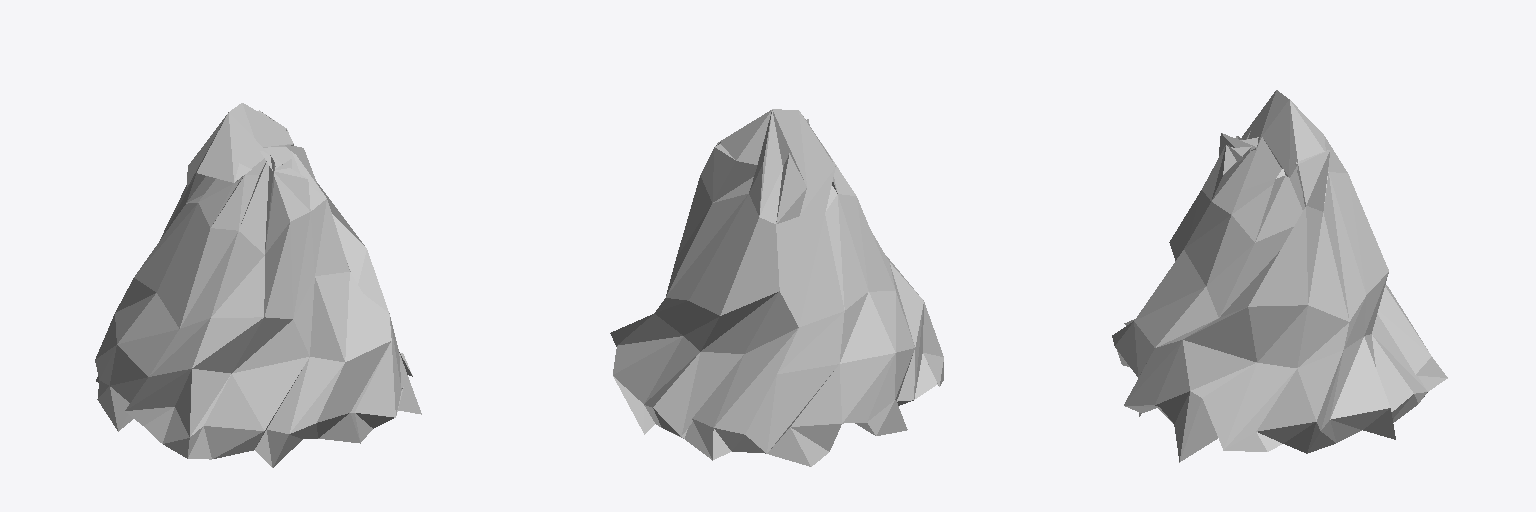
File: chocolate sauced.obj
3 renders of one model, left to right at view 1: azimuth 30°, elevation 25°; view 2: azimuth 150°, elevation 25°; view 3: azimuth 270°, elevation 25°, orthographic.
Parts seen in each view (by area): view 1: chocolate_sauced; view 2: chocolate_sauced; view 3: chocolate_sauced.
Part boxes in pixels (bbox=[...]): chocolate_sauced: bbox=[95, 103, 421, 467]; chocolate_sauced: bbox=[610, 109, 943, 466]; chocolate_sauced: bbox=[1112, 90, 1447, 462].
Bounding box in the file's own units: 0.0925 × 0.0953 × 0.0953.